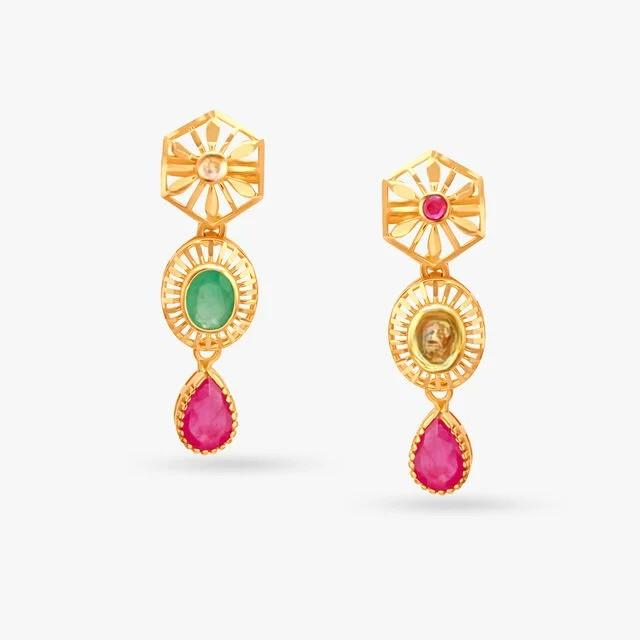missing gem: (414, 309, 462, 367), (197, 154, 228, 179)
